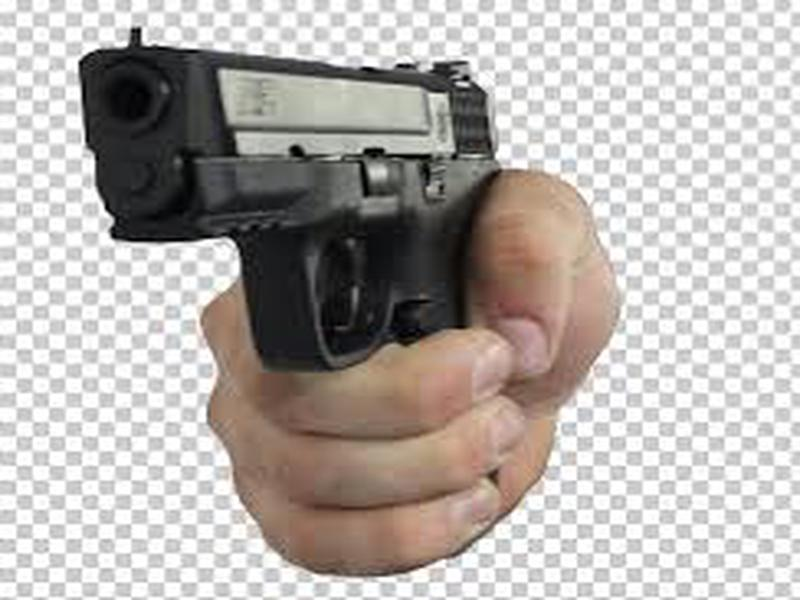gun: (69, 22, 628, 584)
